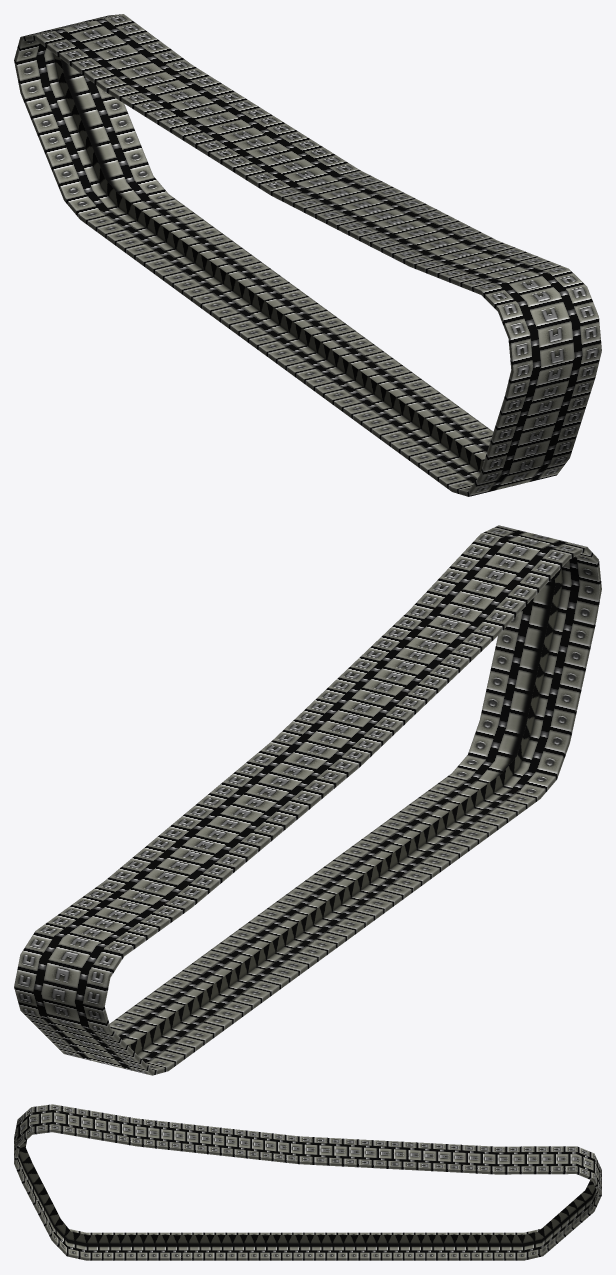
File: JIM_TANK_band.obj
3 renders of one model, top to bottom at view 1: azimuth 30°, elevation 25°; view 2: azimuth 150°, elevation 25°; view 3: azimuth 270°, elevation 25°, orthographic. The views are drawn at different scales.
Visible parts, largest first — view 1: submesh0; view 2: submesh0; view 3: submesh0.
Boxes of the visible parts, x1=… form: submesh0: x1=14, y1=14, x2=601, y2=496; submesh0: x1=14, y1=525, x2=601, y2=1075; submesh0: x1=14, y1=1104, x2=601, y2=1260.
Size of the model in its own units: 0.448 by 1.08 by 4.39.
1 material, 1 textured.
